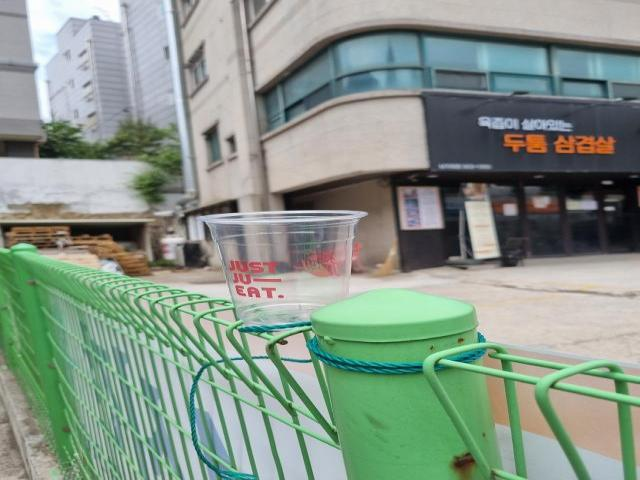cup: (192, 205, 374, 329)
